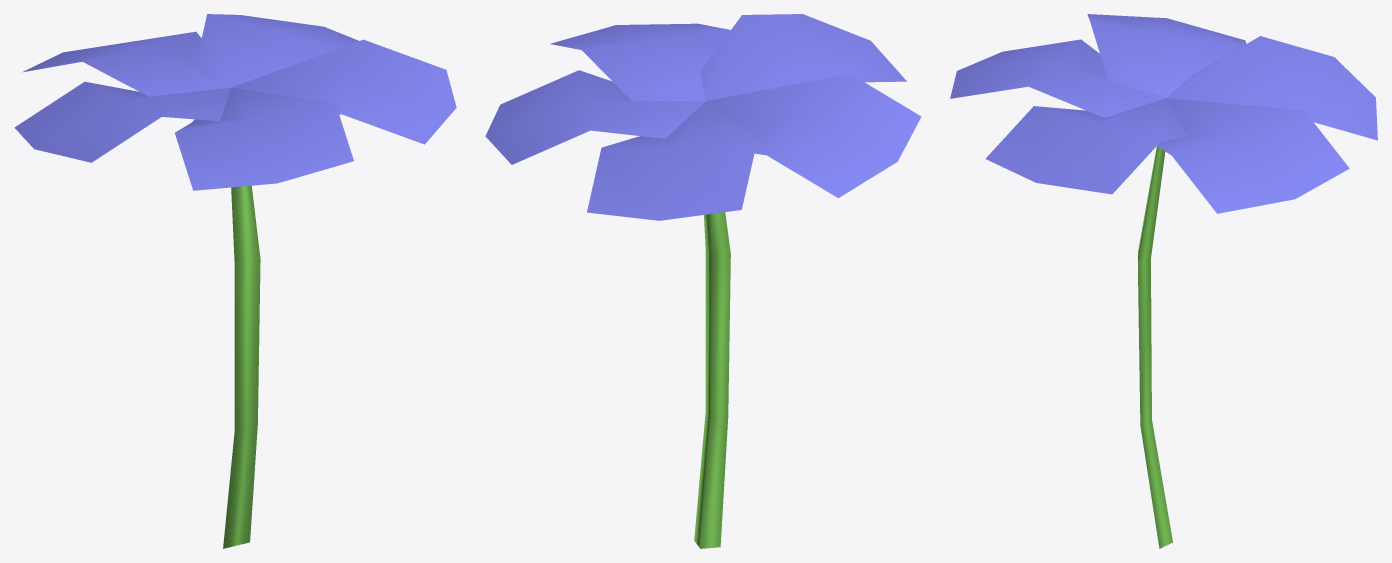
Rendered from Fleurbleur.fbx.
3 views of the same model, side by side, from view 1: azimuth 30°, elevation 25°; view 2: azimuth 150°, elevation 25°; view 3: azimuth 270°, elevation 25° (orthographic). The views are drawn at different scales.
Visible parts, largest first — view 1: Fleur bleu; view 2: Fleur bleu; view 3: Fleur bleu.
Part boxes in pixels (box(x1,y1,x2,y2)): Fleur bleu: box(14, 14, 456, 548); Fleur bleu: box(485, 14, 921, 548); Fleur bleu: box(950, 14, 1377, 548).
Size of the model in its own units: 50.84 by 61.21 by 50.4.
